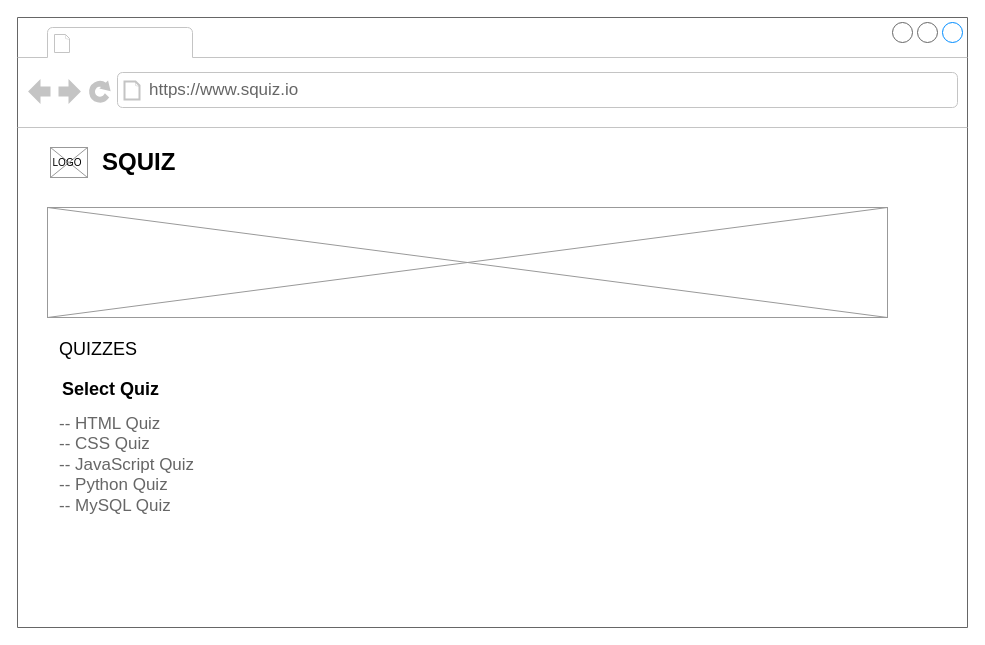
This 985x645 diagram has some shape labels left out. Each missing label, with the box of its shape:
HERO IMAGE: (46, 206, 888, 318)
Squiz Game: (76, 28, 188, 56)
